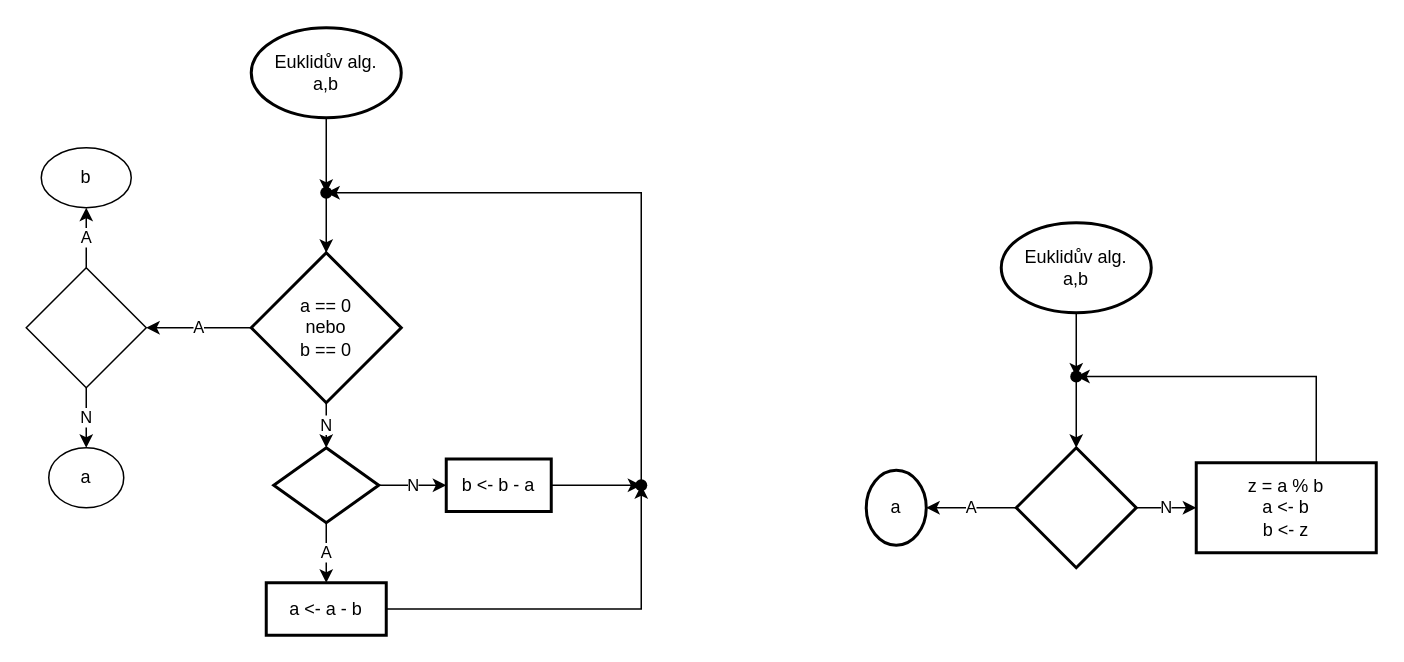
Image size: 1404x662. Some labels were removed from this diagram. The box of each missing label's shape, as (x1, y1, x2, y2) in pixels:
a == 0: (25, 266, 146, 388)
a > b: (272, 446, 380, 524)
b == 0?: (1014, 446, 1137, 568)
